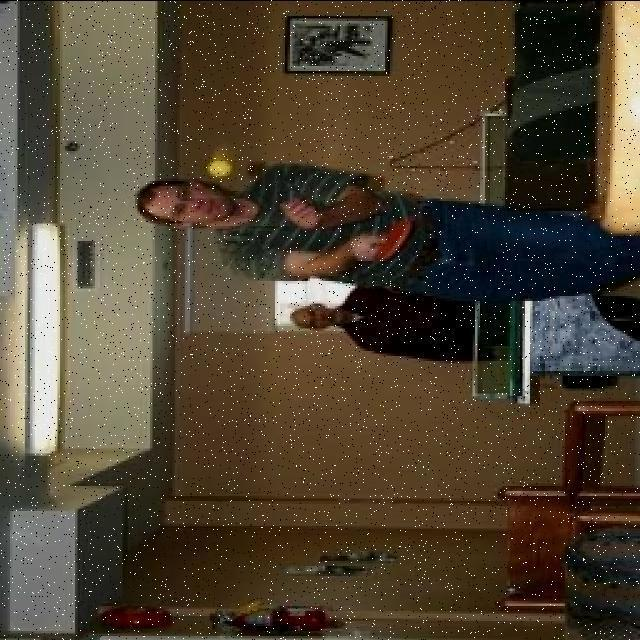ping-pong-ball: (208, 159, 234, 177)
